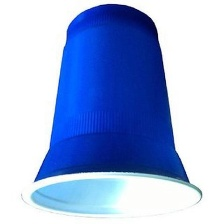glass: (16, 0, 207, 221)
